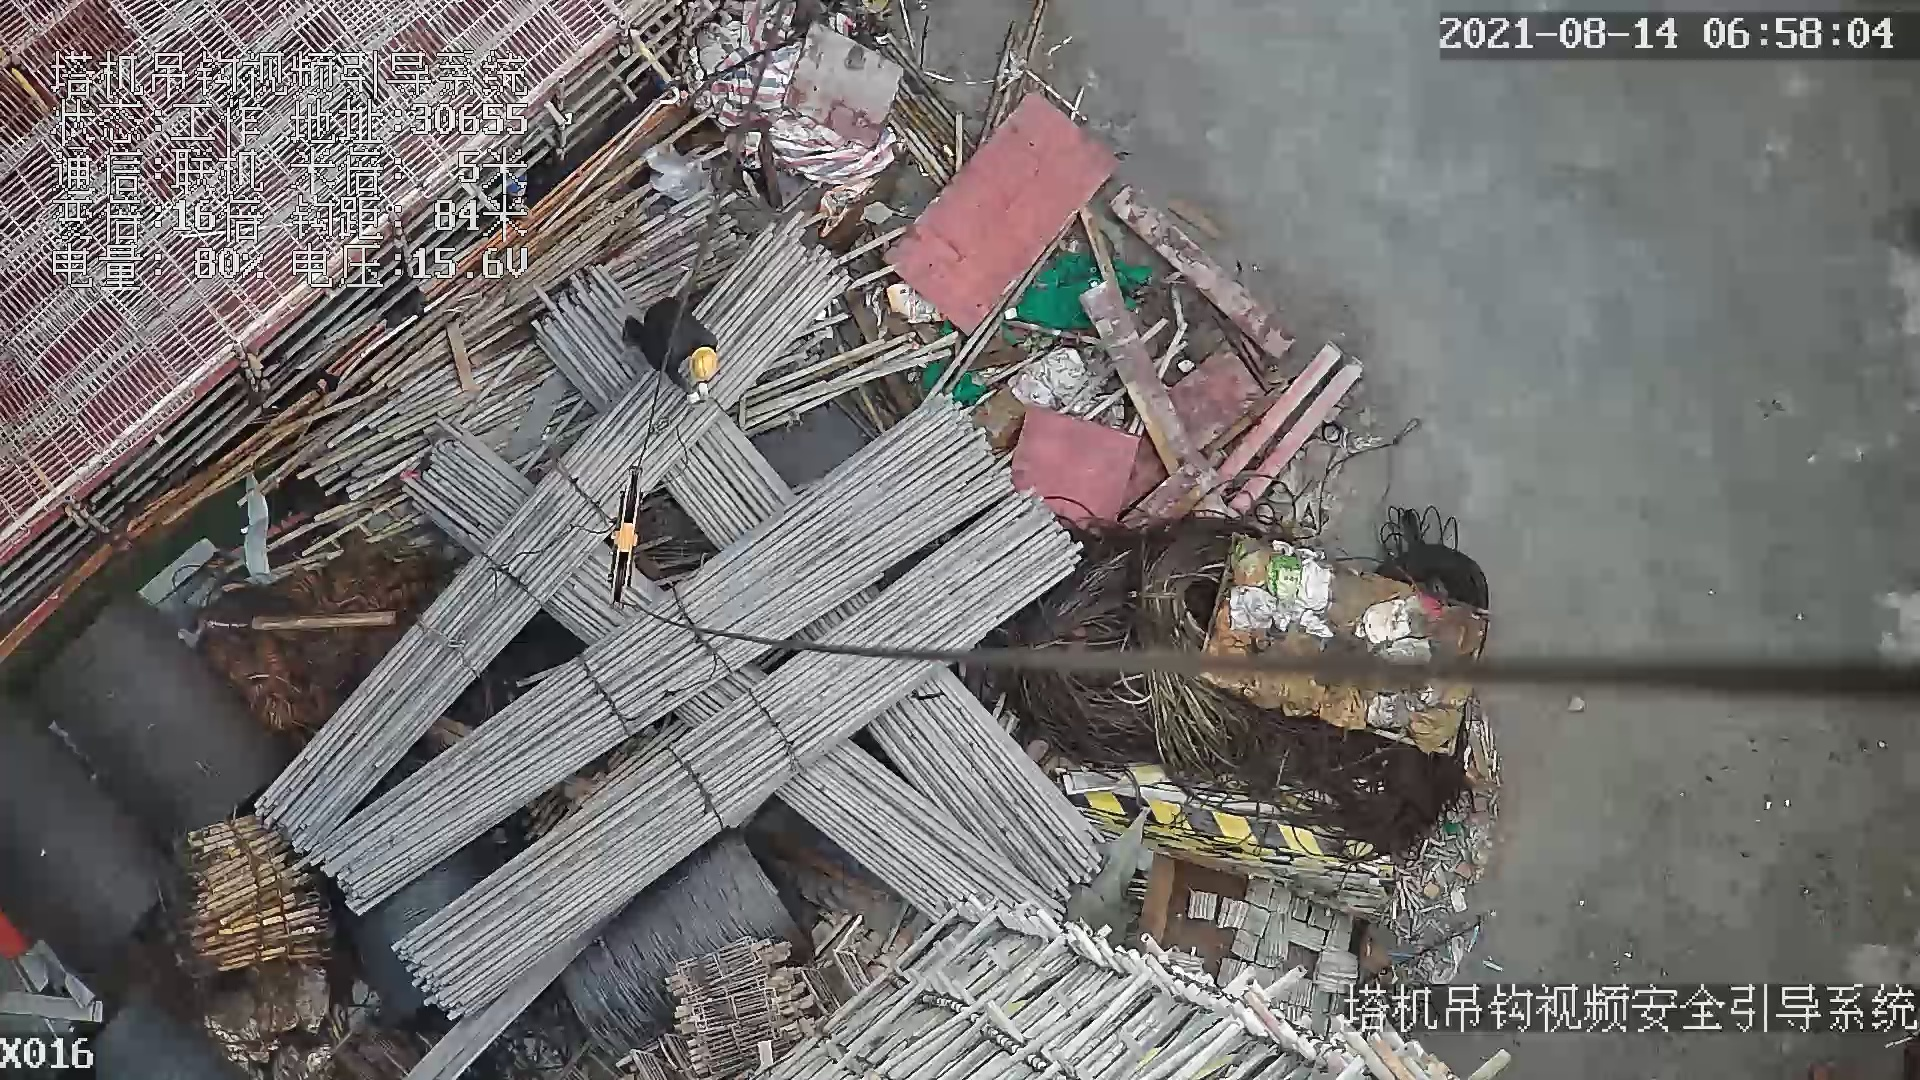helmet: (688, 347, 716, 380)
hook: (596, 460, 647, 610)
person: (613, 299, 719, 405)
rebar: (254, 218, 852, 850), (306, 397, 1015, 922), (392, 500, 1077, 1024), (781, 735, 1071, 926), (866, 665, 1105, 893)
scaffold: (178, 814, 335, 972)
